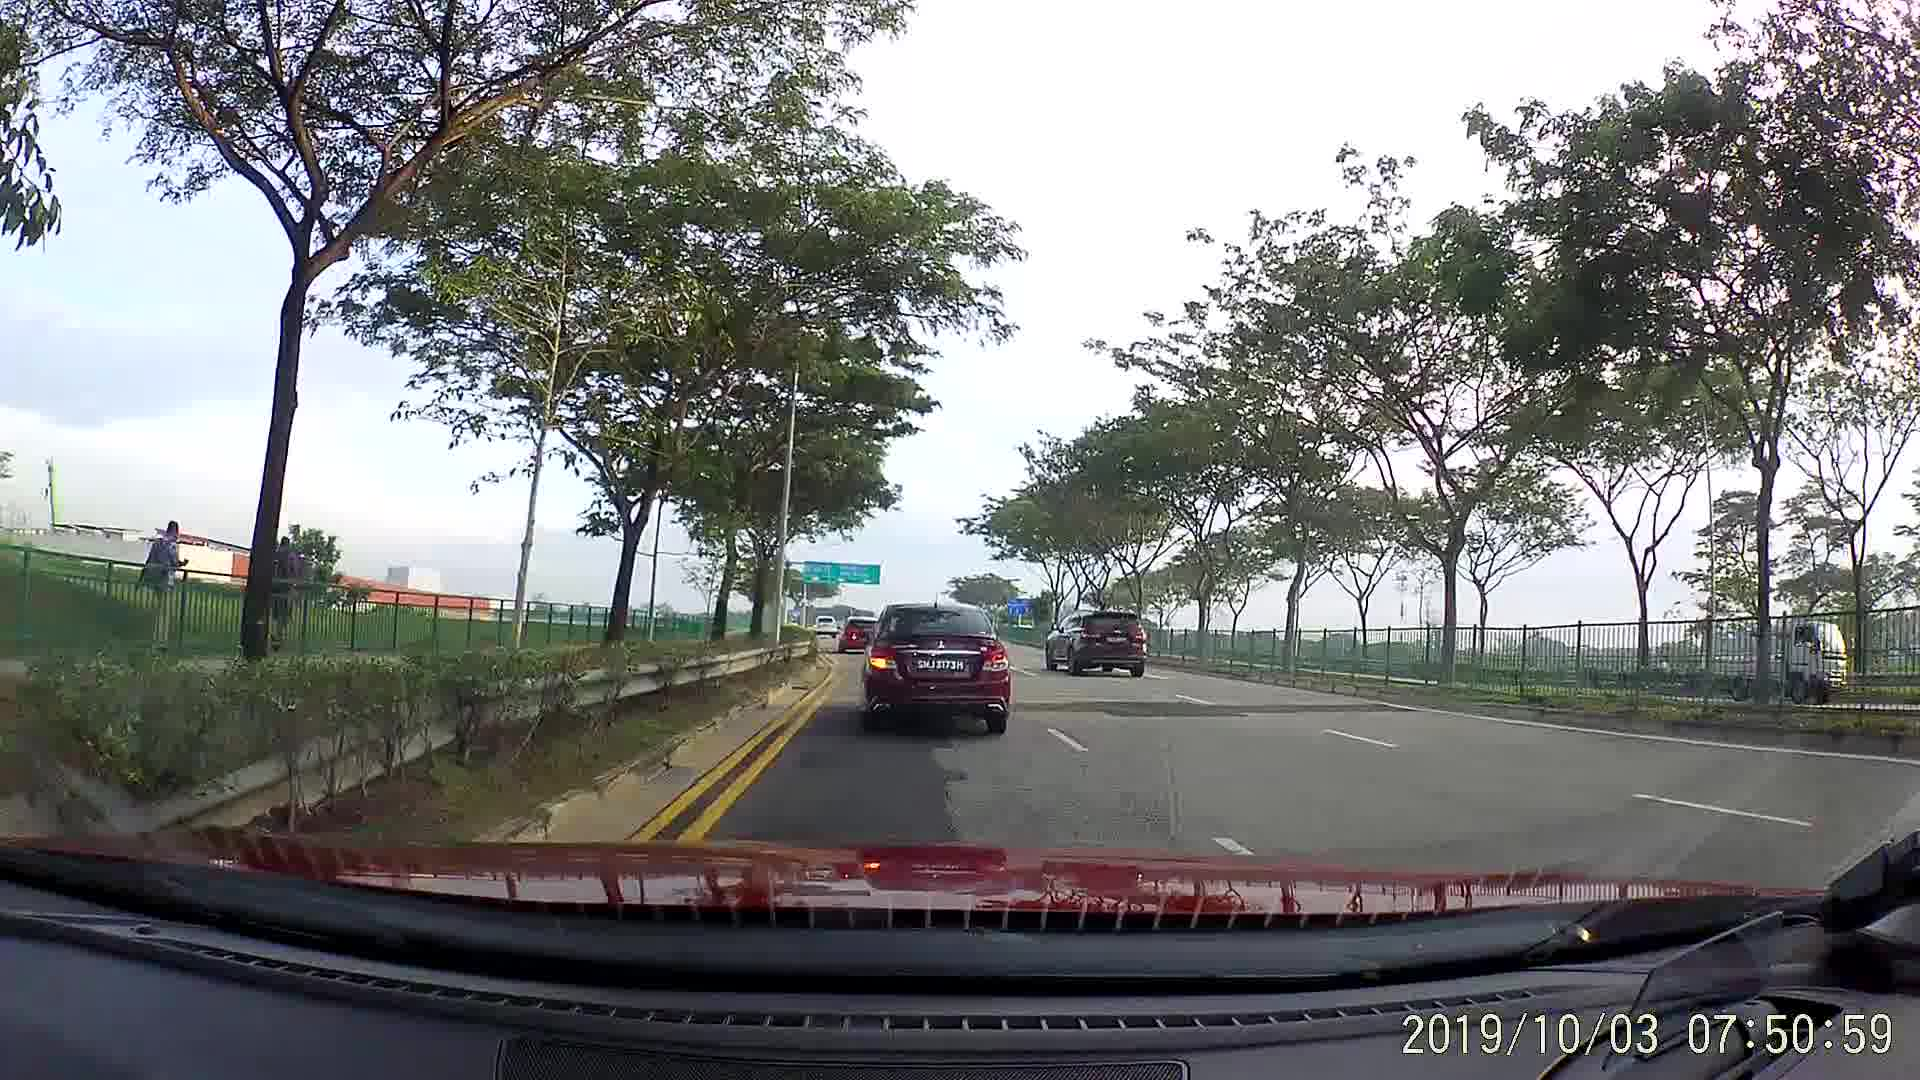car: (872, 603, 1011, 735), (1047, 608, 1151, 679), (836, 618, 882, 655), (808, 611, 840, 644)
